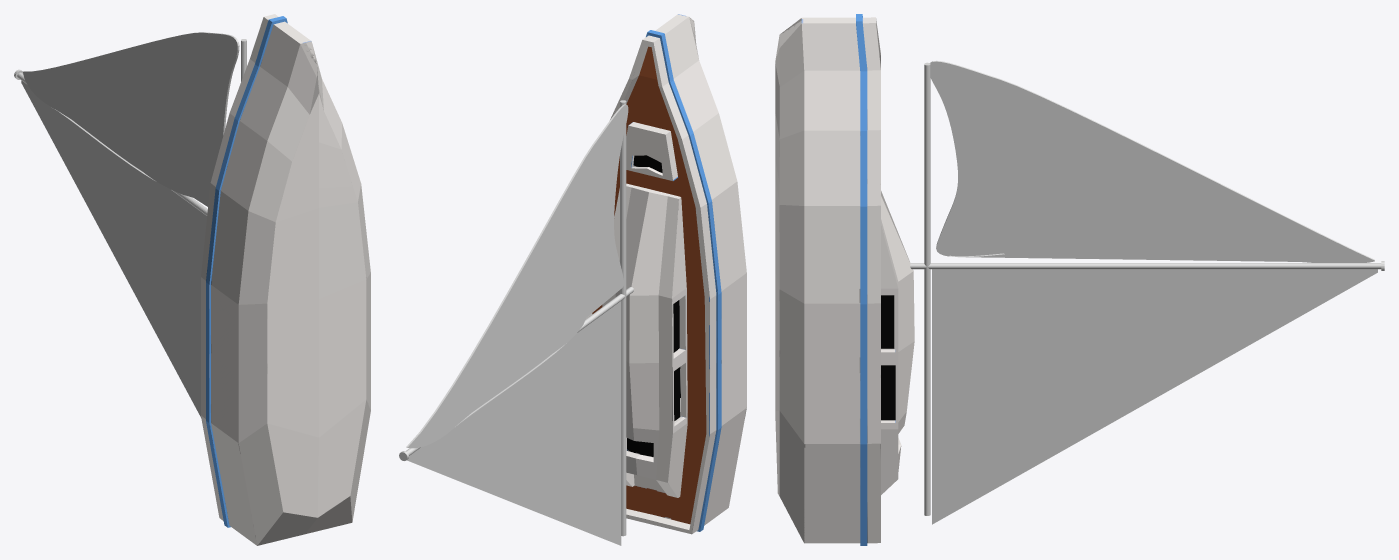
The model's file is boat.fbx.
3 renders of one model, left to right at view 1: azimuth 30°, elevation 25°; view 2: azimuth 150°, elevation 25°; view 3: azimuth 270°, elevation 25°, orthographic. The views are drawn at different scales.
Parts seen in each view (by area): view 1: Cube, BezierCurve, Cube.001; view 2: Cube, Cube.001, BezierCurve, Cylinder.001, Cylinder; view 3: Cube, Cube.001, BezierCurve, Cylinder, Cylinder.001.
Boxes of the visible parts, x1,y1,x2,y2 form: Cube: [201, 14, 370, 545]; BezierCurve: [23, 32, 239, 206]; Cube.001: [21, 80, 206, 417]; Cube: [586, 14, 746, 534]; Cube.001: [407, 301, 621, 545]; BezierCurve: [406, 104, 628, 448]; Cylinder.001: [620, 100, 626, 536]; Cylinder: [399, 287, 633, 460]; Cube: [775, 14, 914, 545]; Cube.001: [932, 269, 1377, 524]; BezierCurve: [930, 60, 1374, 262]; Cylinder: [910, 261, 1384, 270]; Cylinder.001: [924, 62, 930, 515].
Size of the model in its own units: 2.05 by 7.23 by 7.88.
